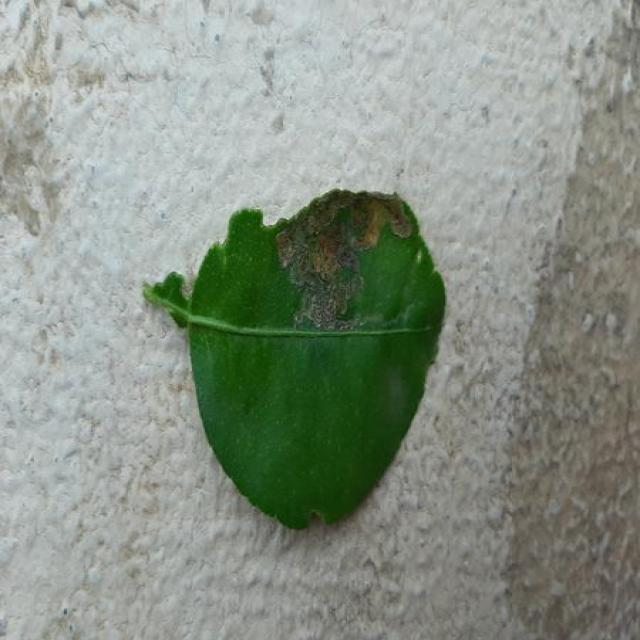bacterial blast: (143, 190, 445, 528)
lemon: (178, 315, 438, 528)
